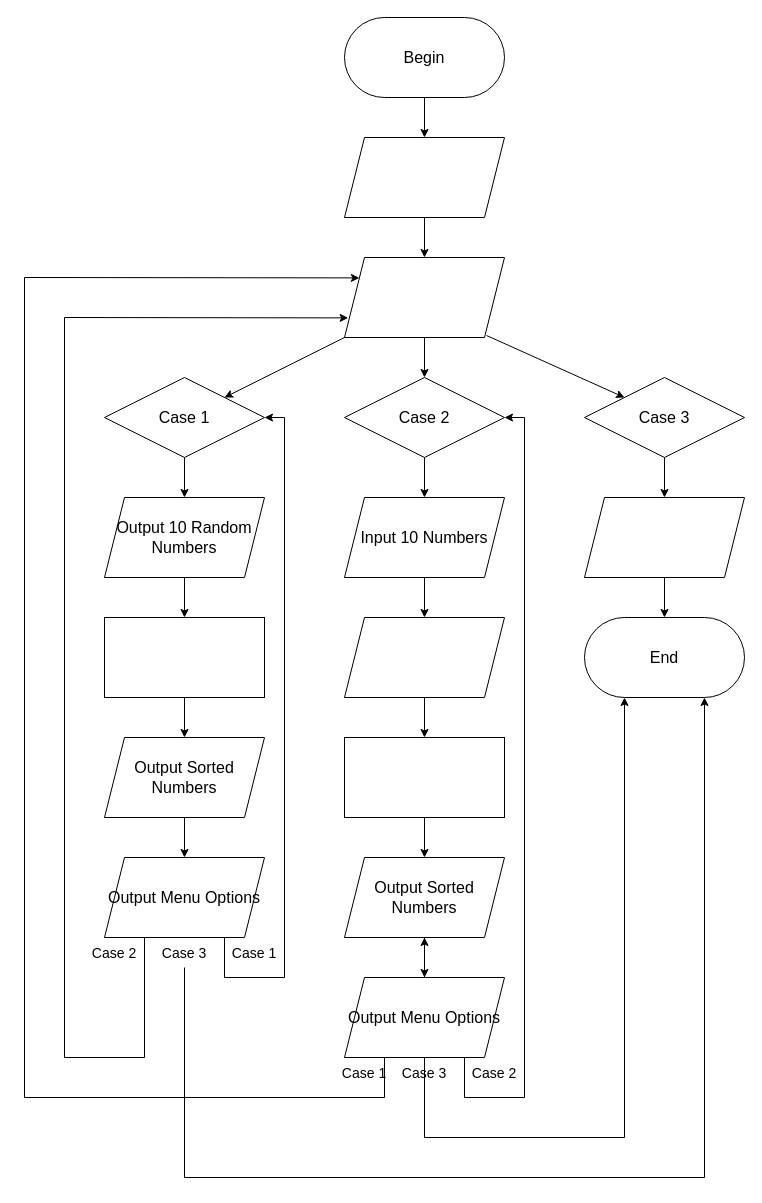
The diagram is 762 pixels wide and 1203 high, and some of its shapes have lost their labels. The centre of each missing label's shape, as x and y in pixels:
"Input User Choice" belongs at (x=424, y=297).
"Output 10 Numbers" belongs at (x=424, y=657).
"Output Goodbye" belongs at (x=664, y=537).
"Output Sorting Options + Exit" belongs at (x=424, y=177).
"Sort Numbers" belongs at (x=424, y=777).
"Sort Random Numbers" belongs at (x=184, y=657).
